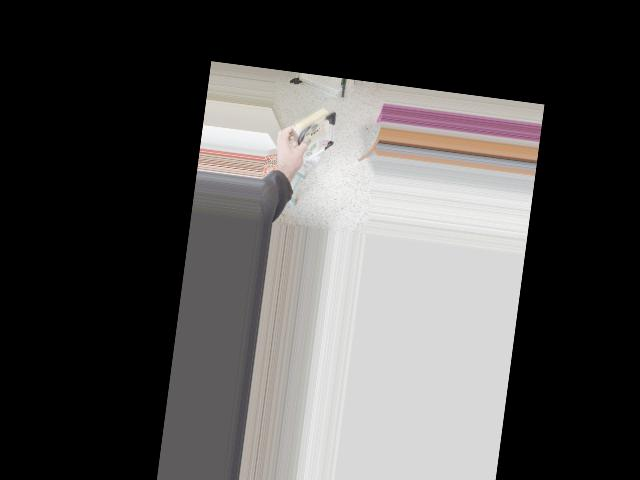cheese: (271, 88, 356, 163)
